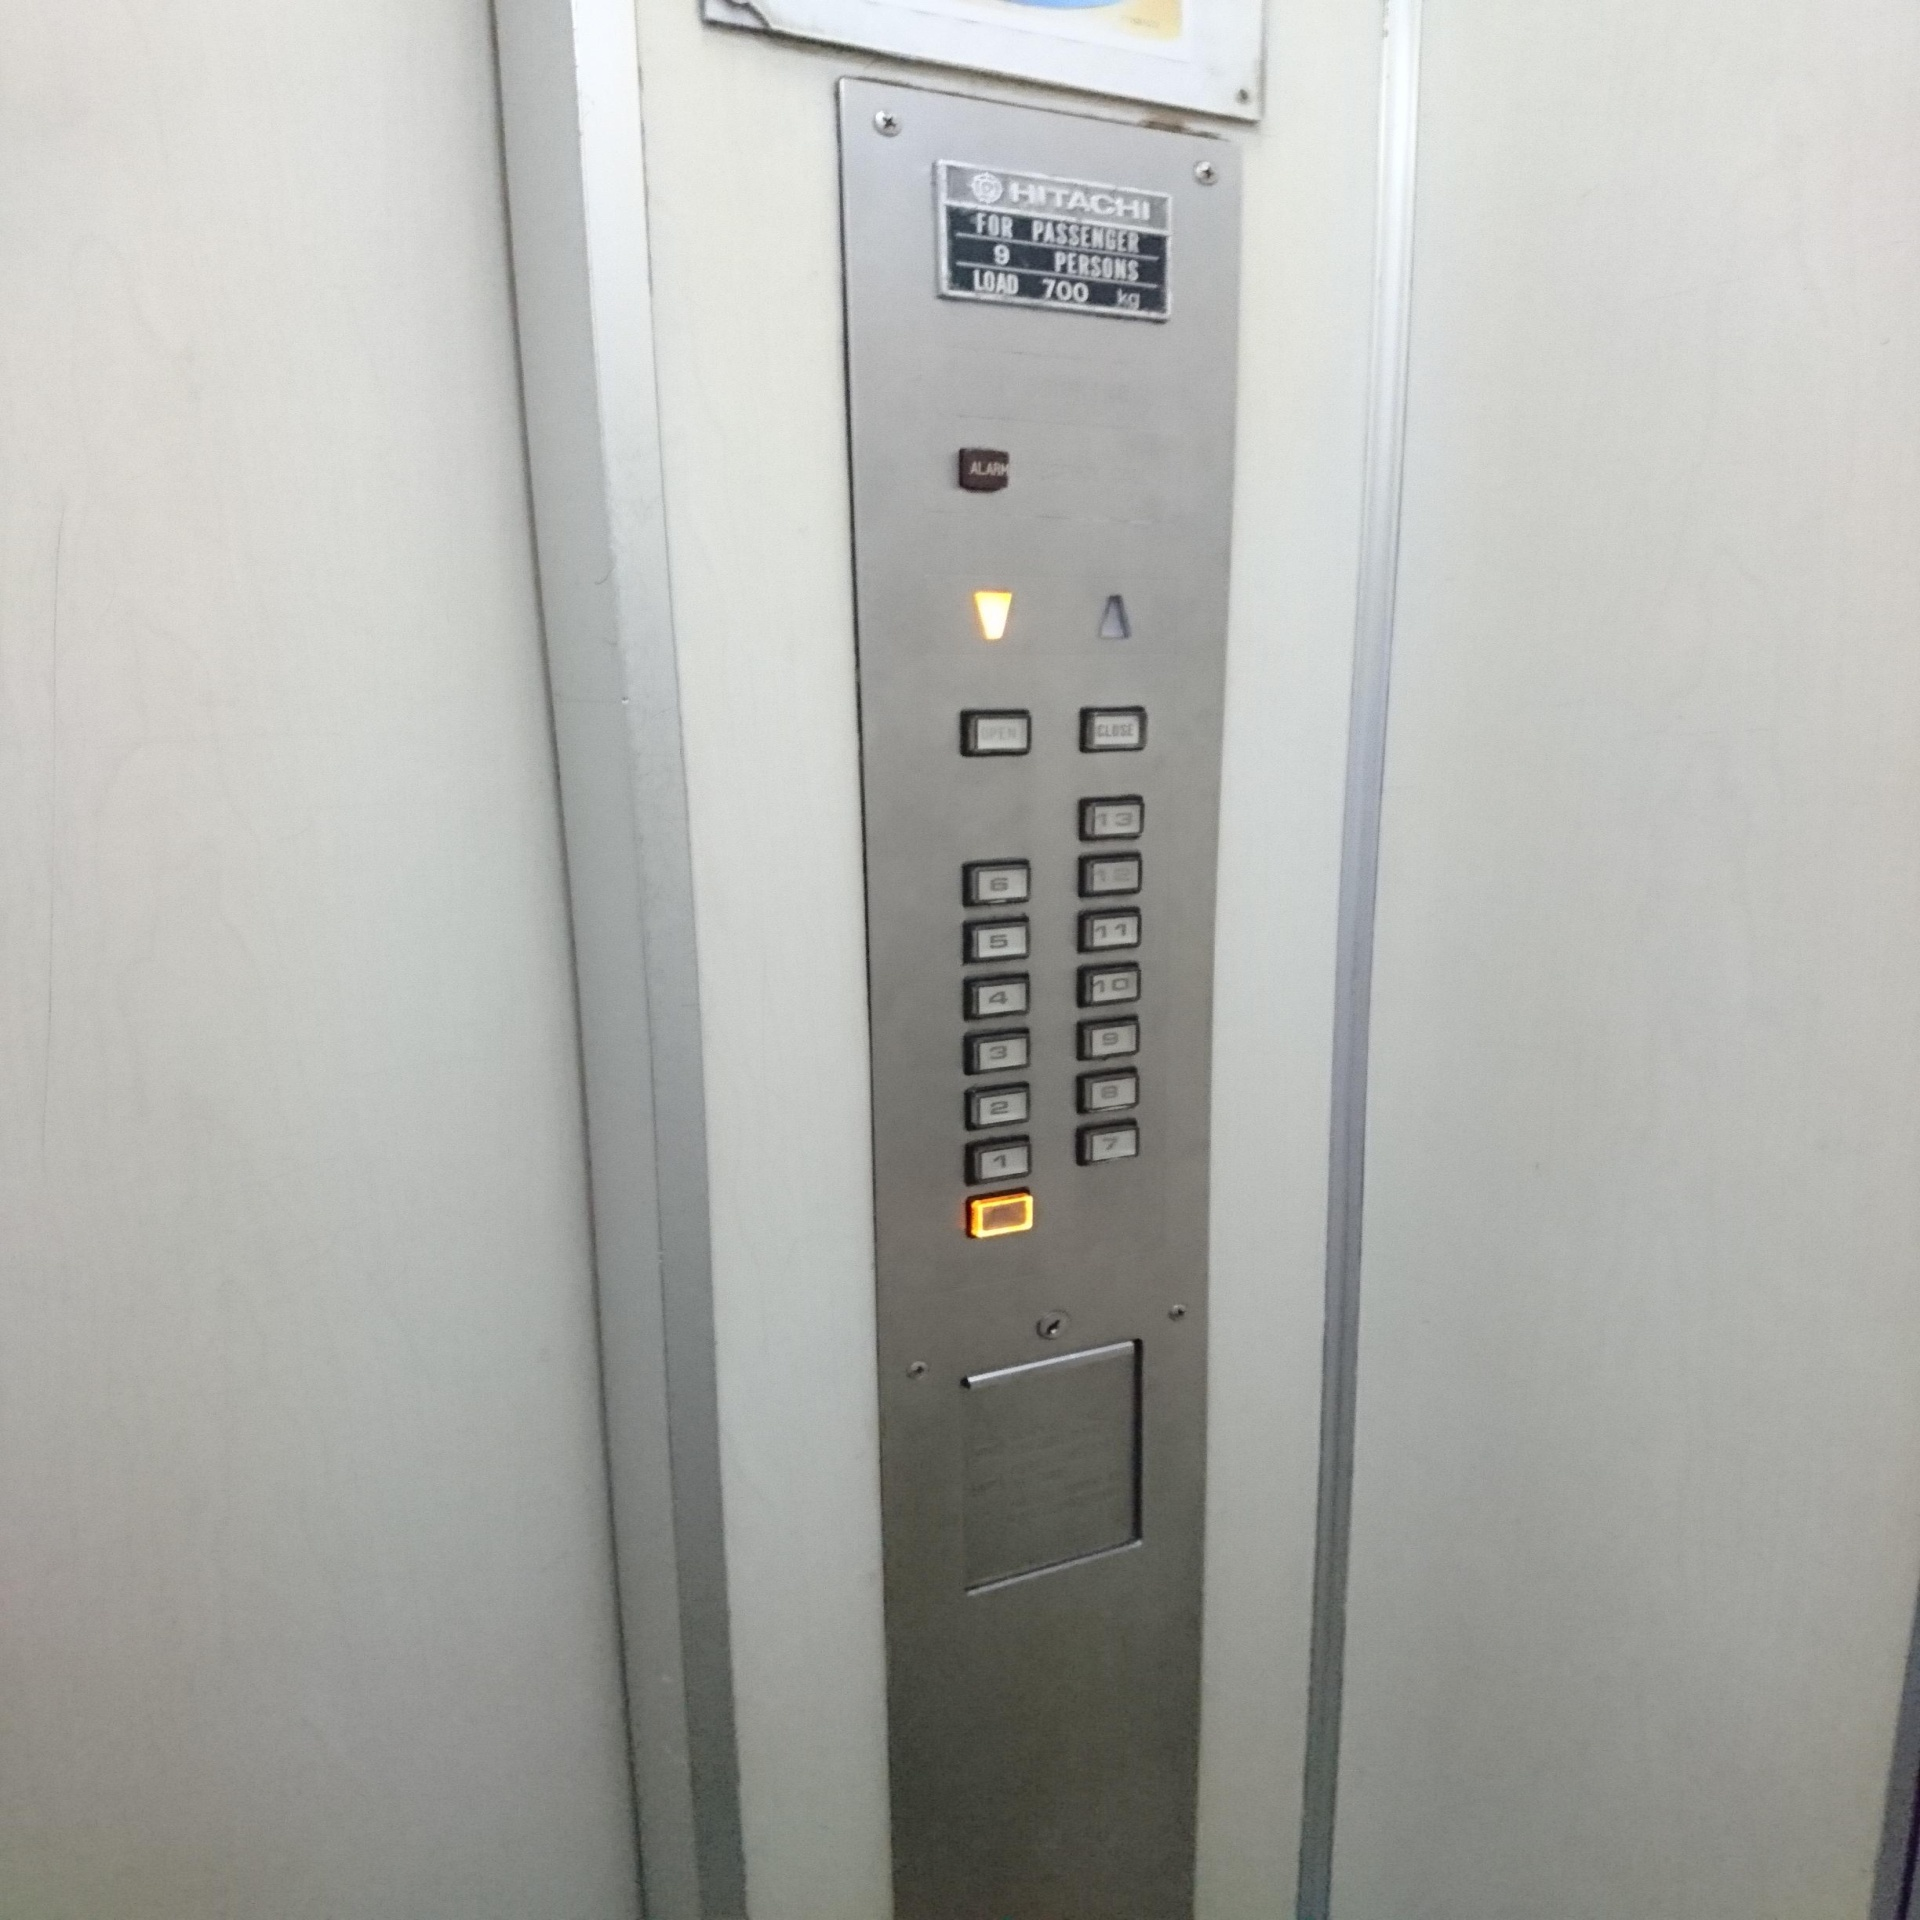1: (965, 1138, 1034, 1187)
10: (1076, 962, 1145, 1011)
11: (1073, 907, 1143, 951)
12: (1074, 851, 1146, 900)
13: (1076, 795, 1148, 844)
2: (962, 1083, 1030, 1132)
3: (964, 1029, 1030, 1080)
4: (964, 976, 1030, 1025)
5: (964, 918, 1030, 967)
6: (964, 858, 1032, 907)
7: (1074, 1118, 1143, 1167)
8: (1074, 1065, 1143, 1116)
9: (1074, 1013, 1143, 1064)
blur: (967, 1194, 1036, 1243)
keyhole: (1036, 1305, 1071, 1349)
text: (955, 703, 1037, 760), (1078, 702, 1148, 754)
text_alarm: (956, 443, 1013, 496)
